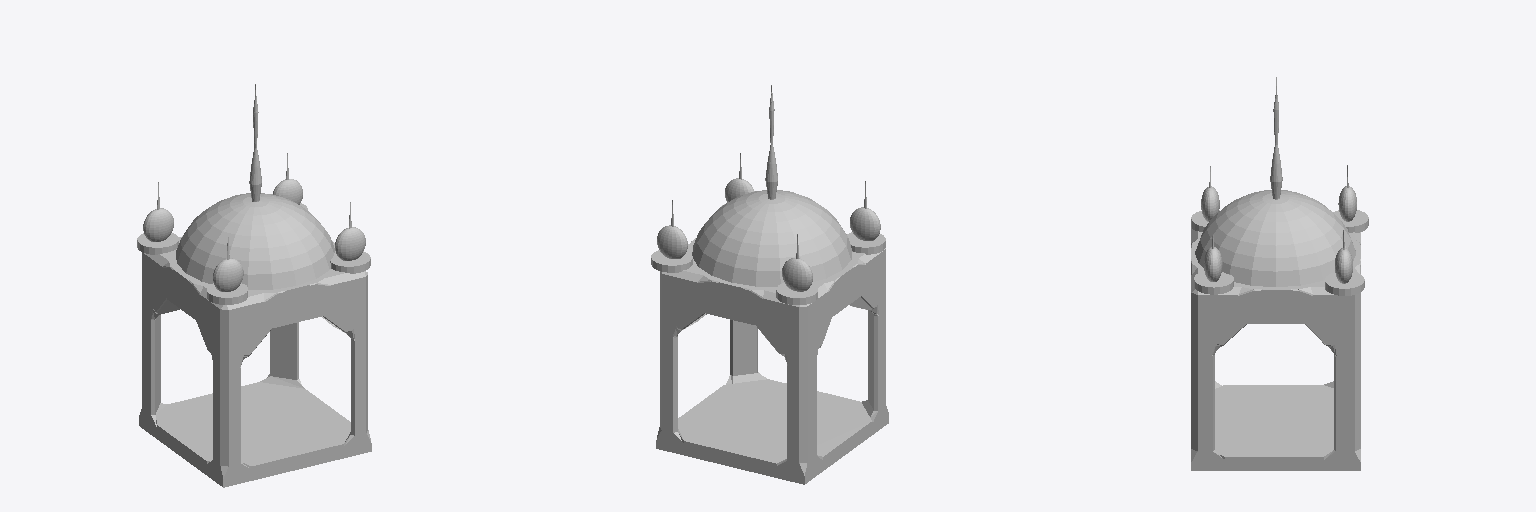
Rendered from structure_temple.obj.
3 views of the same model, side by side, from view 1: azimuth 30°, elevation 25°; view 2: azimuth 150°, elevation 25°; view 3: azimuth 270°, elevation 25° (orthographic).
Visible parts, largest first — view 1: polySurface5; view 2: polySurface5; view 3: polySurface5.
Part boxes in pixels (bbox=[...]): polySurface5: bbox=[137, 84, 371, 487]; polySurface5: bbox=[651, 85, 888, 484]; polySurface5: bbox=[1191, 77, 1368, 470].
Size of the model in its own units: 6.67 by 14.07 by 6.27.